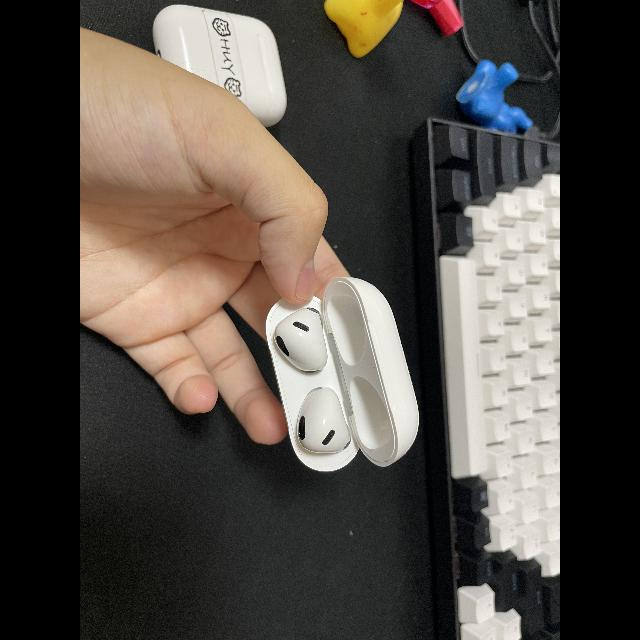airpod2: (144, 0, 298, 134)
airpod3: (254, 265, 430, 481)
